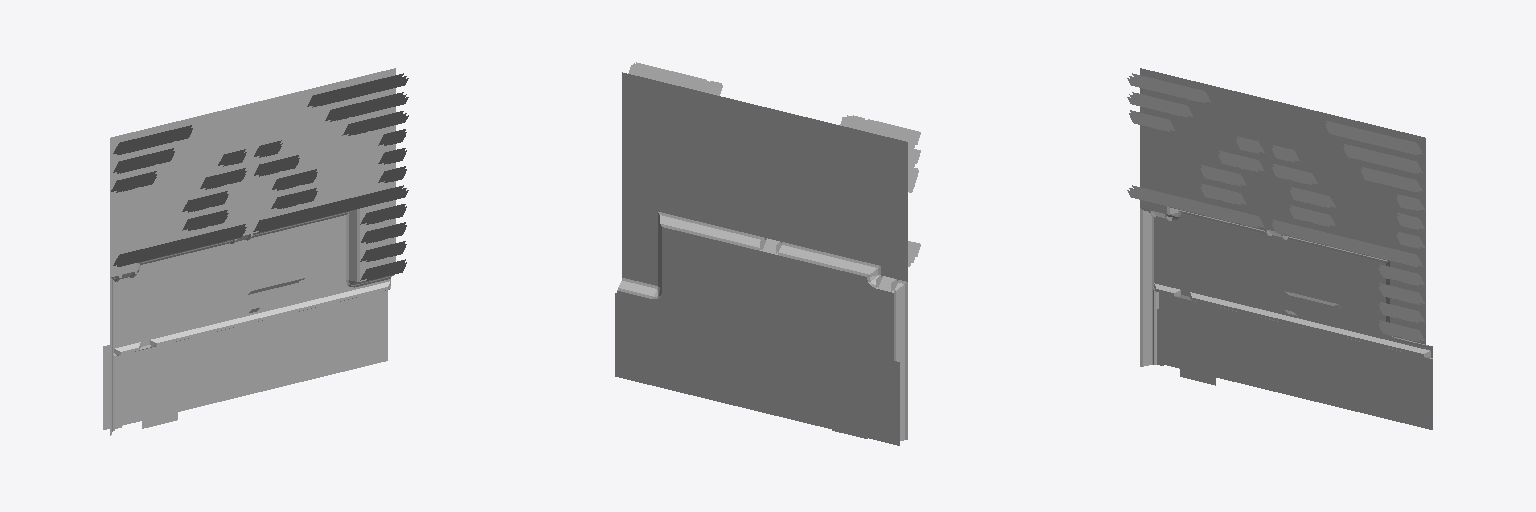
File: Plat_full_10_01.obj
3 views of the same model, side by side, from view 1: azimuth 30°, elevation 25°; view 2: azimuth 150°, elevation 25°; view 3: azimuth 330°, elevation 25° (orthographic).
Parts seen in each view (by area): view 1: map; view 2: map; view 3: map.
Part boxes in pixels (left/top/right/bottom): map: left=103, top=68, right=408, bottom=435; map: left=615, top=62, right=920, bottom=445; map: left=1127, top=68, right=1432, bottom=429.
Size of the model in its own units: 32.5 by 32.62 by 4.14.